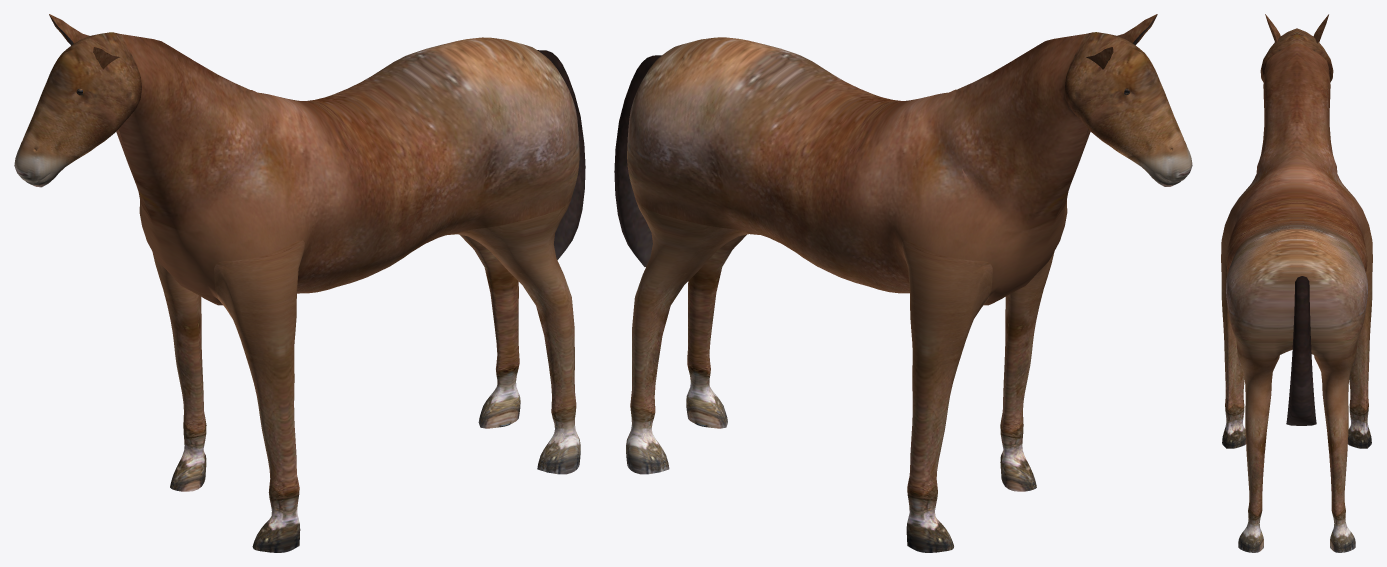
Rendered from Horse.FBX.
3 views of the same model, side by side, from view 1: azimuth 30°, elevation 25°; view 2: azimuth 150°, elevation 25°; view 3: azimuth 270°, elevation 25° (orthographic). The views are drawn at different scales.
Visible parts, largest first — view 1: HORSE 3D Models; view 2: HORSE 3D Models; view 3: HORSE 3D Models.
Boxes of the visible parts, box(x1,y1,x2,y2) form: HORSE 3D Models: box(14, 14, 585, 552); HORSE 3D Models: box(614, 14, 1192, 552); HORSE 3D Models: box(1221, 14, 1372, 552).
Bounding box in the file's own units: 485 × 427 × 157.
